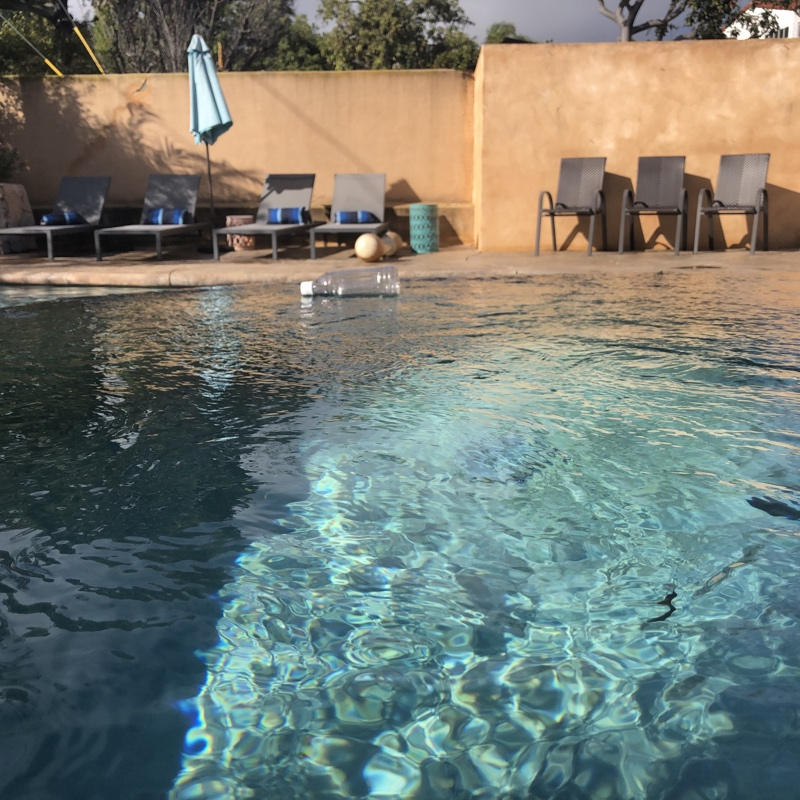Plastic Bottle: (299, 263, 402, 302)
